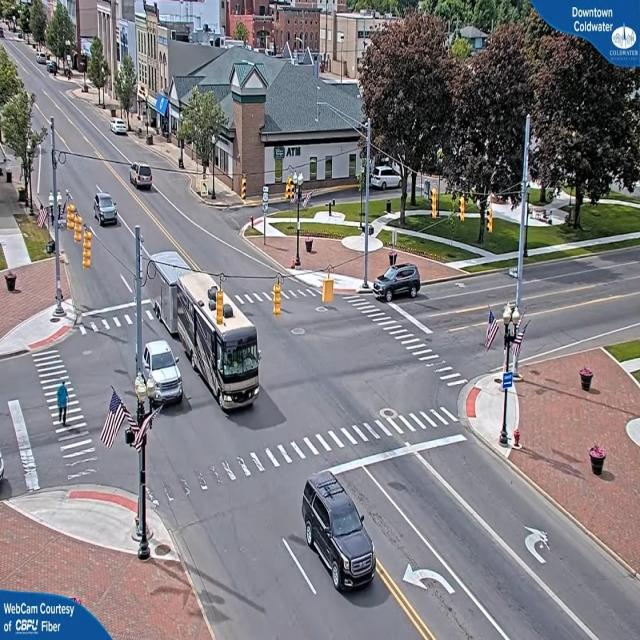car: (302, 472, 379, 600), (140, 338, 186, 412), (374, 262, 423, 300), (94, 191, 120, 225), (130, 164, 154, 191), (112, 119, 130, 136)
truck: (189, 311, 264, 411)
